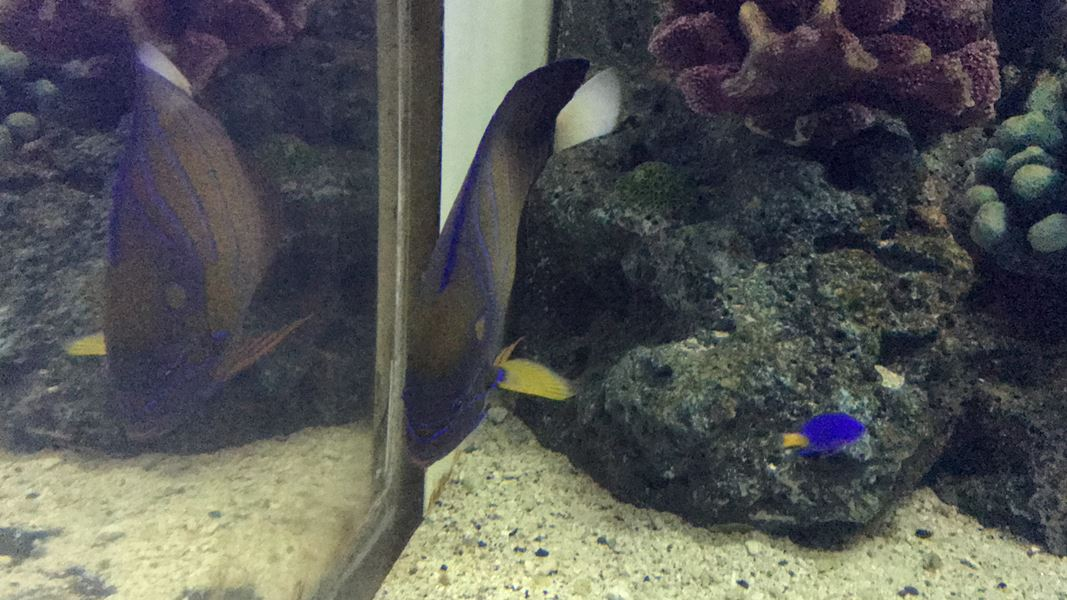Blue ring angelfish: (356, 42, 630, 479)
